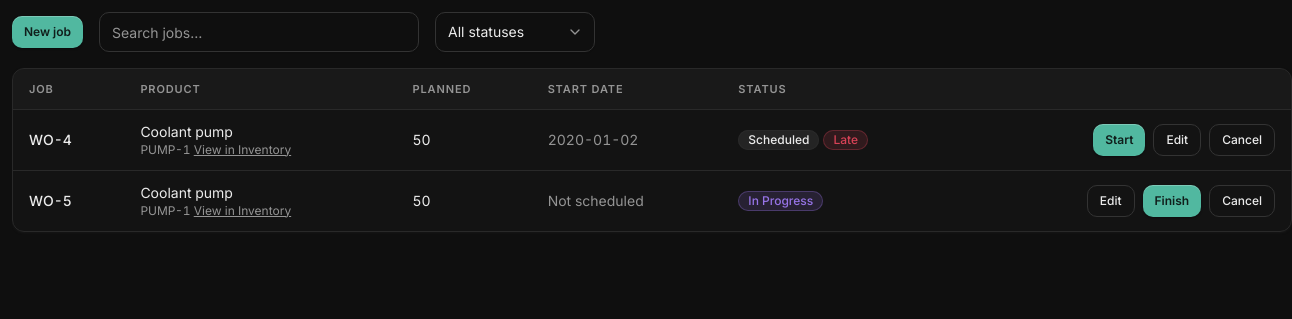
JobsPanel › starts a job, and shows the backend's 409 message when stock is short
Click the button "Start". click: (1119, 140)
box: x1=1093 y1=124 x2=1145 y2=156
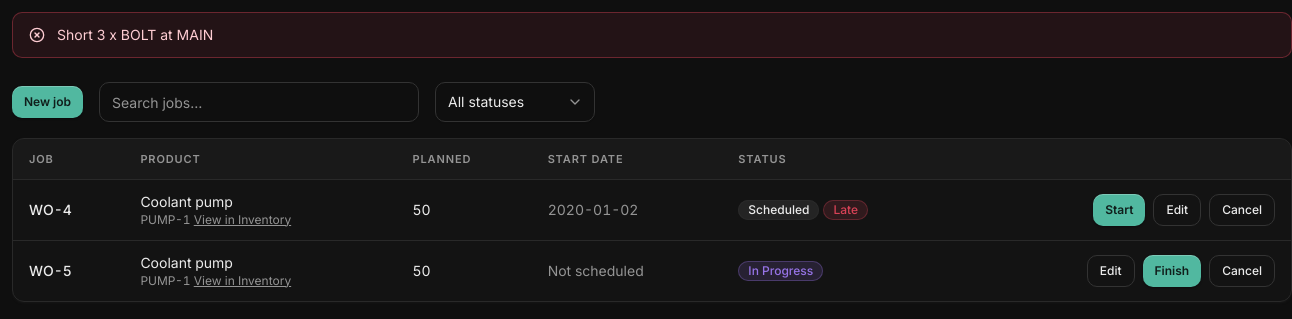
Check: the text "Short 3 x BOLT at MAIN" is shown, box x1=57 y1=25 x2=213 y2=45
